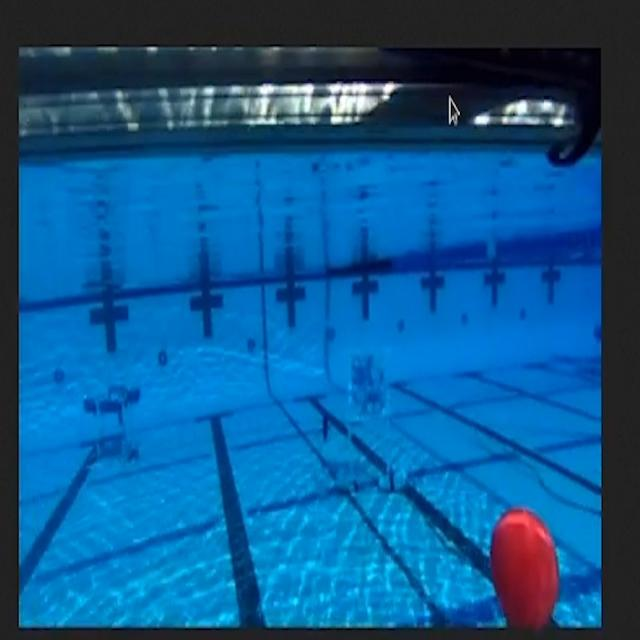Buoy: (474, 489, 571, 636)
